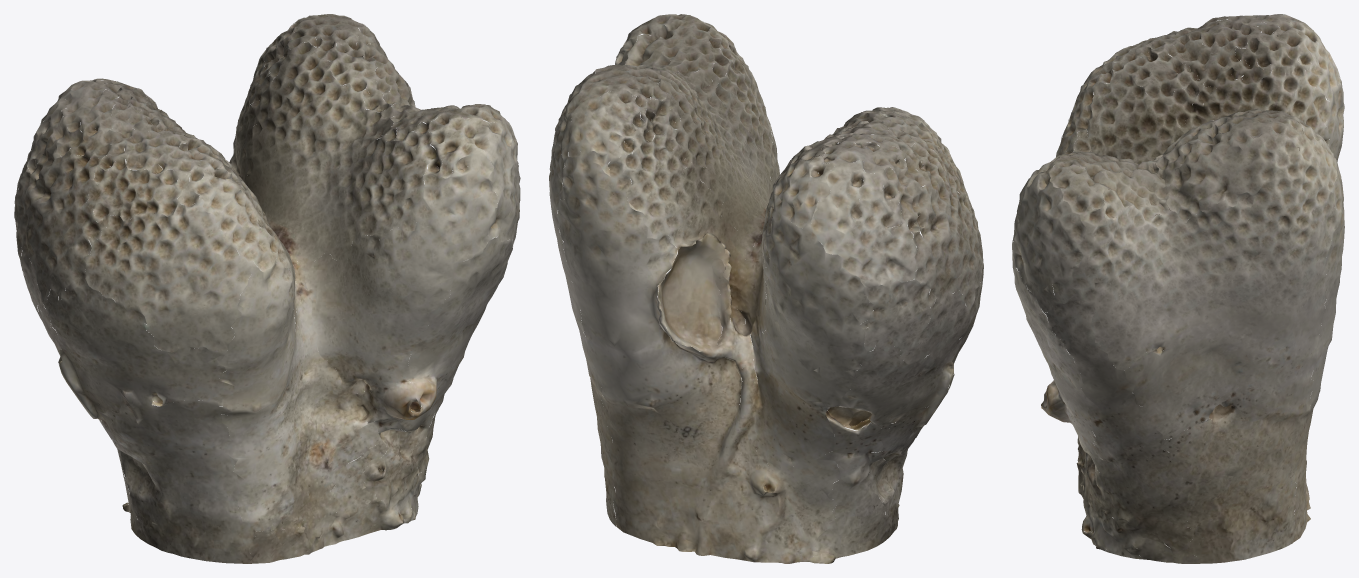
Rendered from lobed.glb.
3 renders of one model, left to right at view 1: azimuth 30°, elevation 25°; view 2: azimuth 150°, elevation 25°; view 3: azimuth 270°, elevation 25°, orthographic.
Parts seen in each view (by area): view 1: Smithsonian scan — lobed; view 2: Smithsonian scan — lobed; view 3: Smithsonian scan — lobed.
Part boxes in pixels (x1,y1,x2,y2): Smithsonian scan — lobed: (14, 14, 520, 563); Smithsonian scan — lobed: (549, 14, 983, 563); Smithsonian scan — lobed: (1012, 14, 1344, 563).
Size of the model in its own units: 0.9995 by 1.01 by 0.7104.
Materials: 1 (1 with a texture image).
